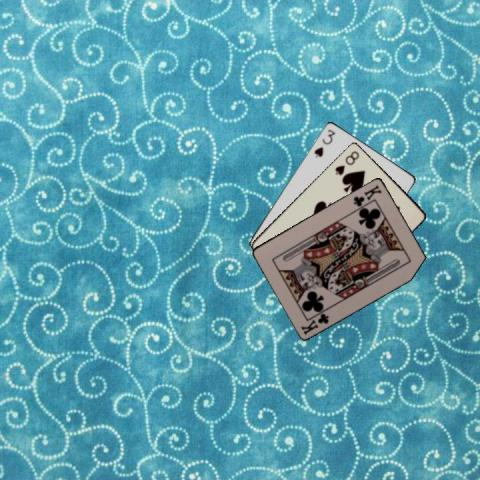3s: (311, 126, 337, 159)
8s: (332, 147, 361, 177)
Kc: (298, 310, 330, 336), (350, 182, 383, 207)
